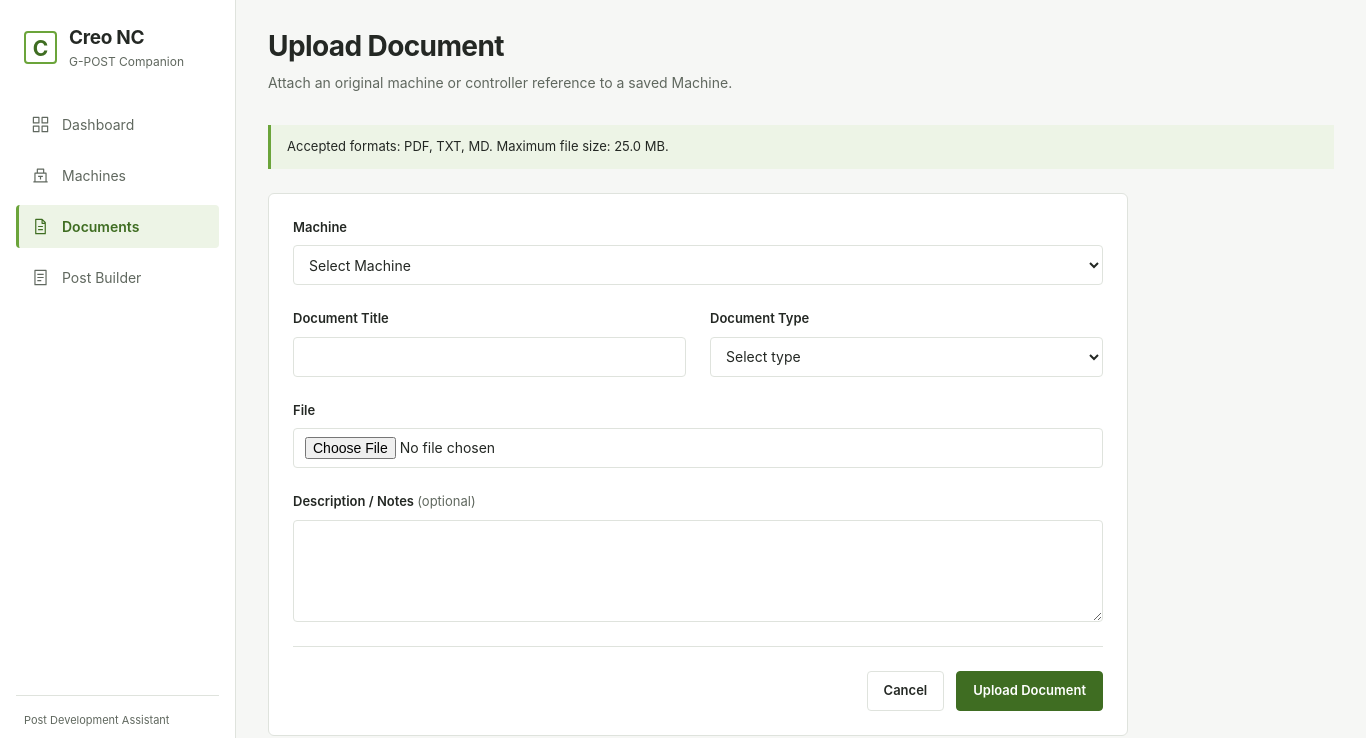
Test: Document management › reports required upload fields without sending a request
(page scrolled)
Expected: the dropdown labelled "Machine" is shown, [293, 245, 1103, 285]
Click the button "Upload Document" at {"x": 1030, "y": 690}, box [956, 670, 1103, 710]
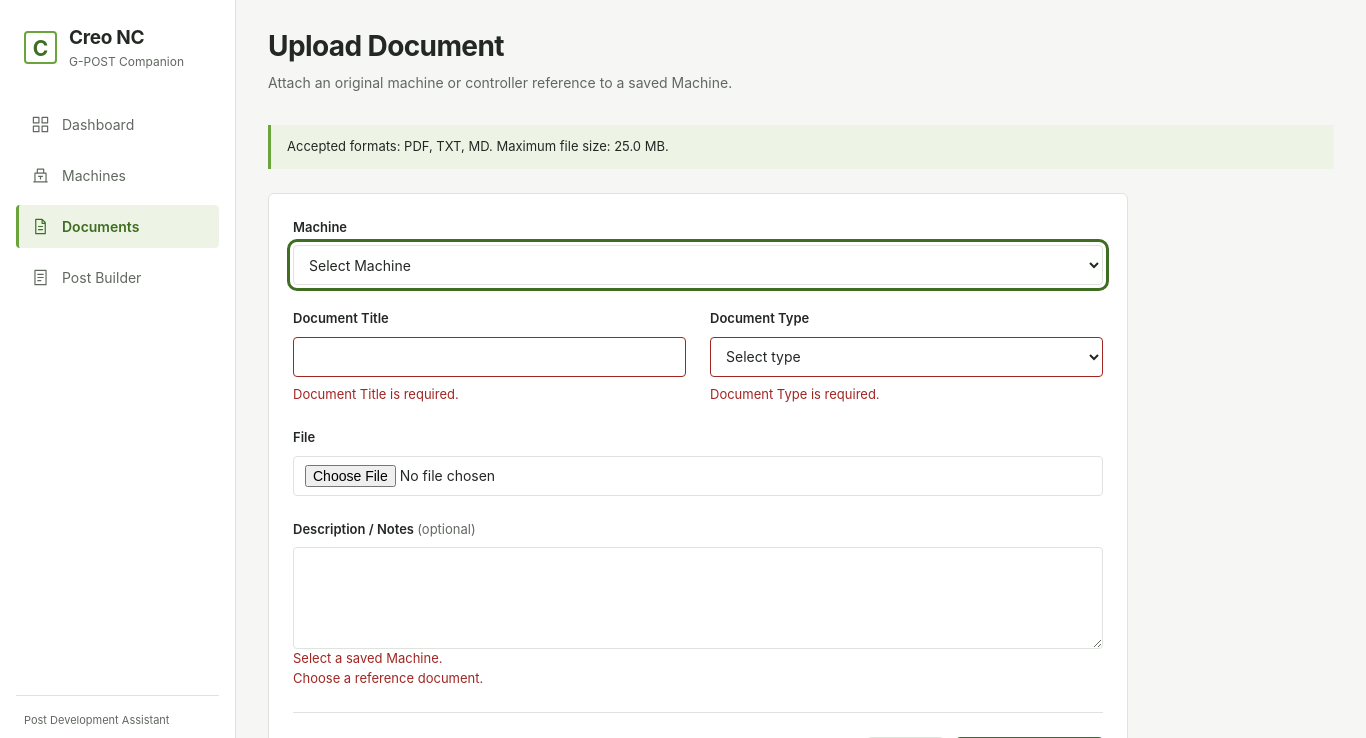
Expected: the text "Choose a reference document." is shown, [293, 670, 483, 686]
Expected: the text "Document Title is required." is shown, [293, 386, 459, 402]
